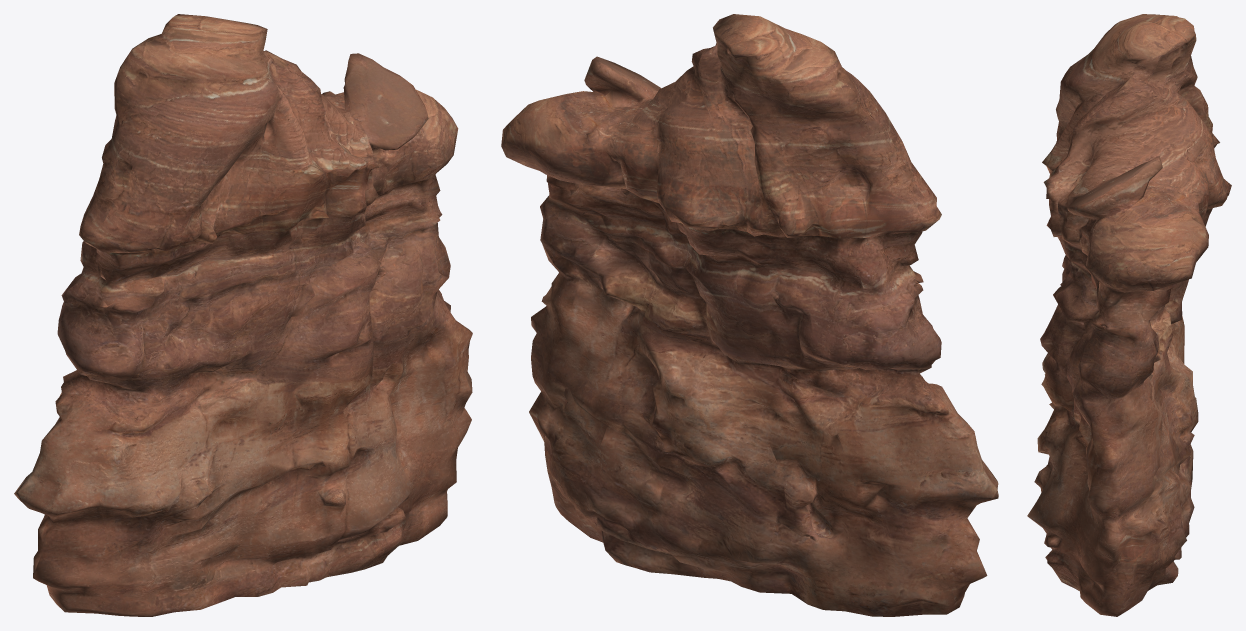
Rendered from desert_western_formation_layered_xl_05_vjqiaa2qx_mid.glb.
3 renders of one model, left to right at view 1: azimuth 30°, elevation 25°; view 2: azimuth 150°, elevation 25°; view 3: azimuth 270°, elevation 25°, orthographic. The views are drawn at different scales.
Visible parts, largest first — view 1: vjqiaa2qx_LOD0_TIER2_000; view 2: vjqiaa2qx_LOD0_TIER2_000; view 3: vjqiaa2qx_LOD0_TIER2_000.
Part boxes in pixels (x1,y1,x2,y2): vjqiaa2qx_LOD0_TIER2_000: (14,14,472,616); vjqiaa2qx_LOD0_TIER2_000: (501,14,998,616); vjqiaa2qx_LOD0_TIER2_000: (1027,14,1231,616).
Size of the model in its own units: 18.96 by 21.81 by 8.01.
1 material, 1 textured.
